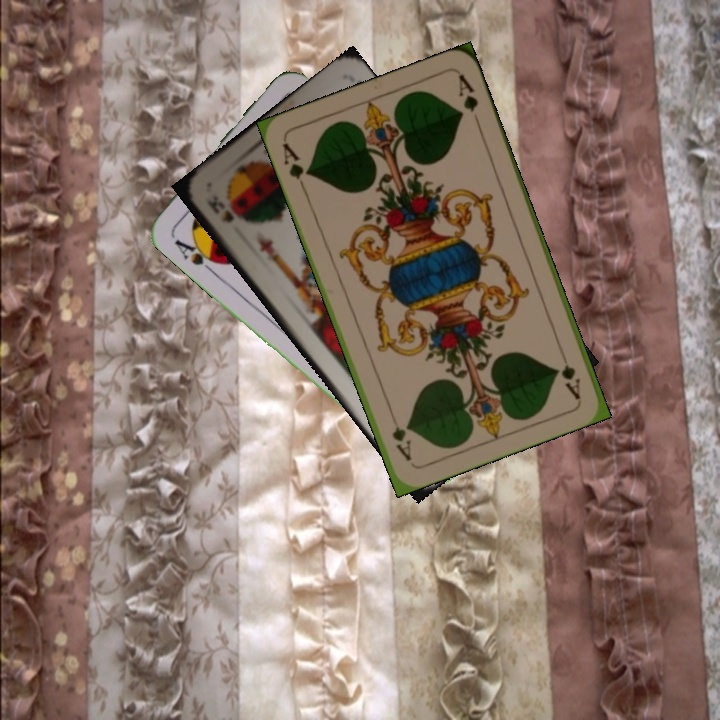GA: (278, 138, 313, 194), (555, 344, 583, 402)
SA: (170, 234, 223, 275)
SK: (202, 195, 237, 225)
